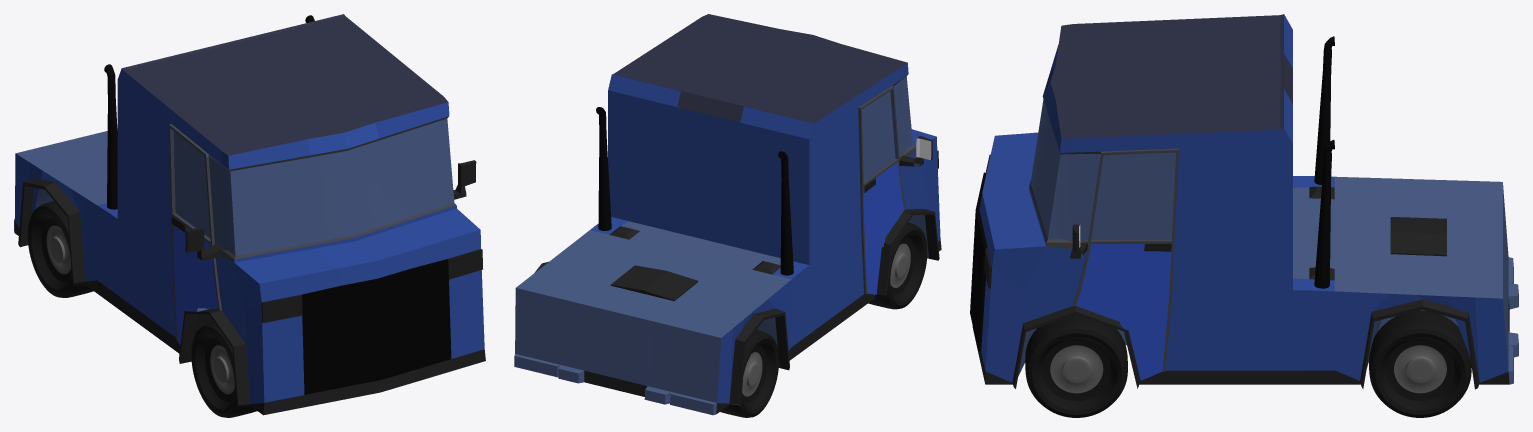
File: Truck_Low_Poly_-_Rigged.glb
3 renders of one model, left to right at view 1: azimuth 30°, elevation 25°; view 2: azimuth 150°, elevation 25°; view 3: azimuth 270°, elevation 25°, orthographic. The views are drawn at different scales.
Parts seen in each view (by area): view 1: unnamed (×13); view 2: unnamed (×11); view 3: unnamed (×12).
Boxes of the visible parts, x1,y1,x2,y2 form: unnamed (×13): (14,14,485,417); unnamed (×11): (514,14,941,417); unnamed (×12): (970,14,1518,417).
Size of what is drawn, in the model's own units: 2.6 by 2.36 by 4.06.
